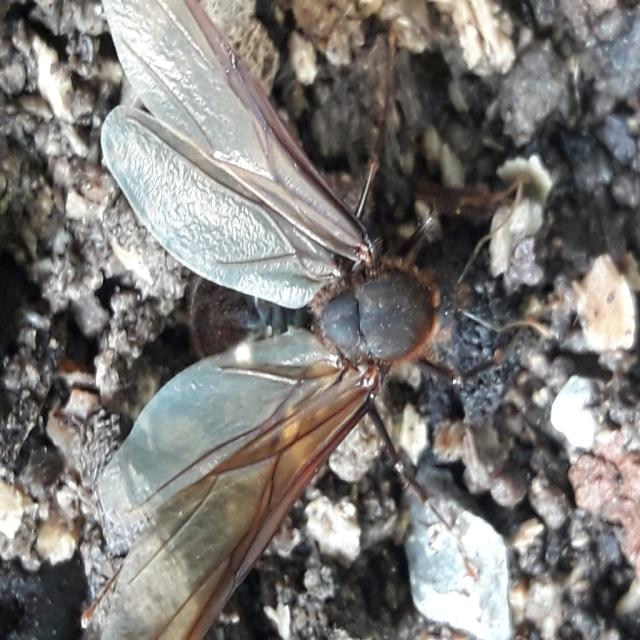Alive-Male-Alate: (79, 0, 554, 640)
